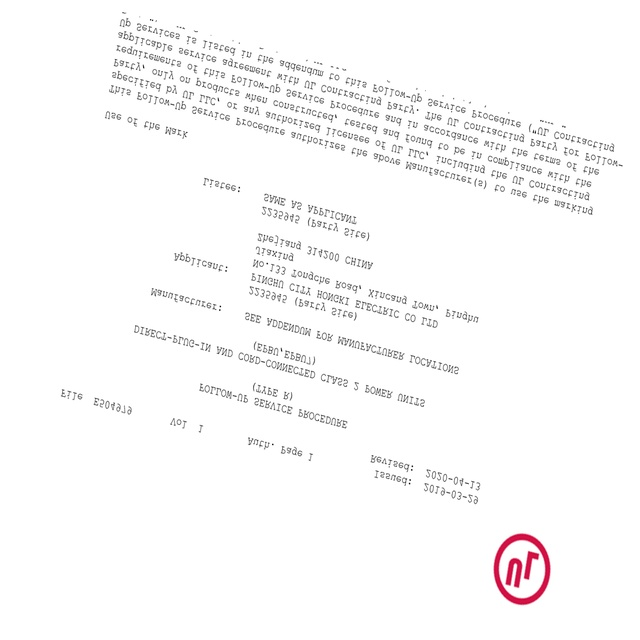ul: (493, 532, 551, 605)
